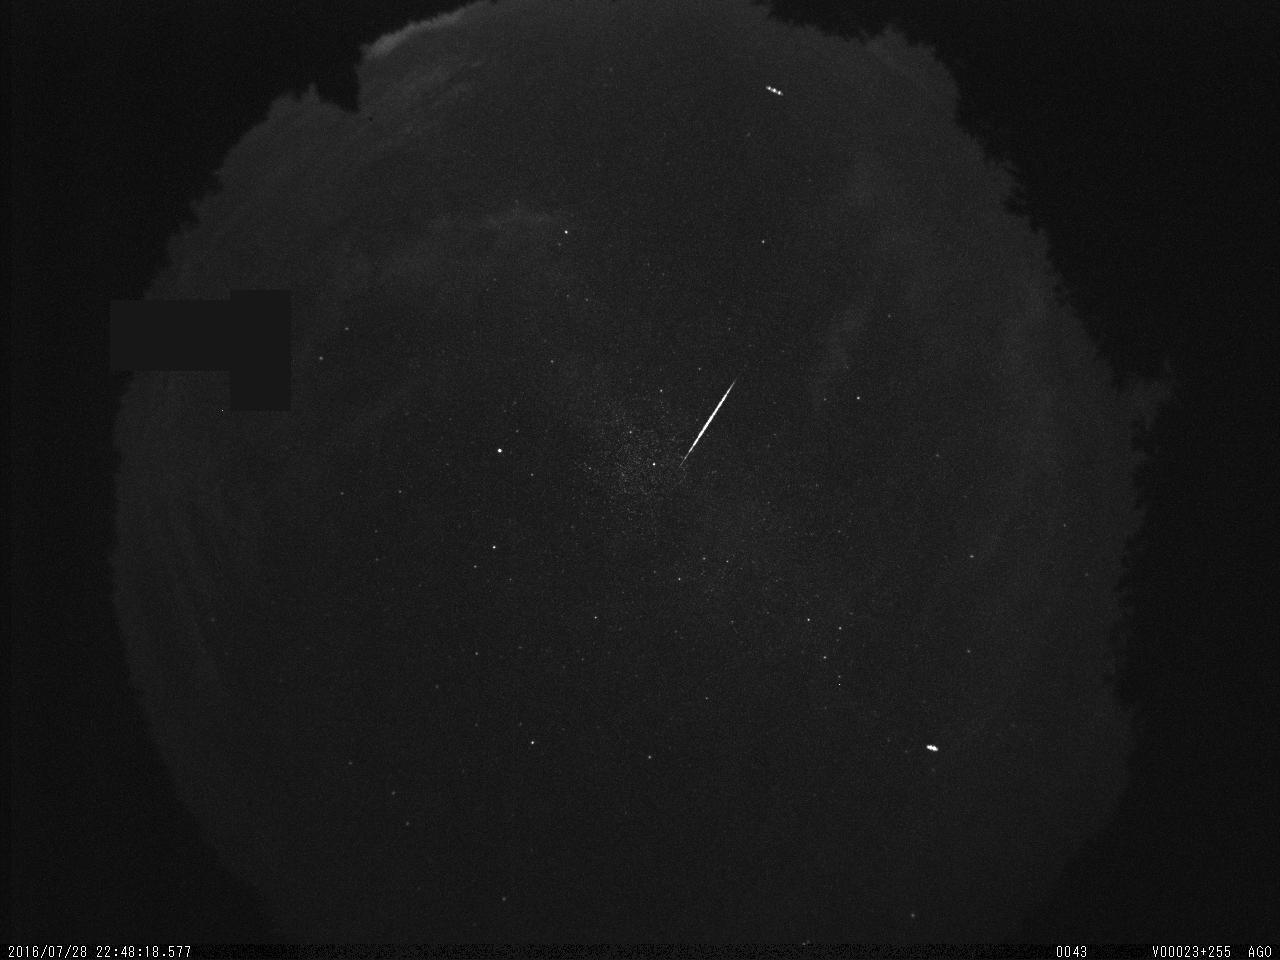meteor: (660, 359, 763, 482)
